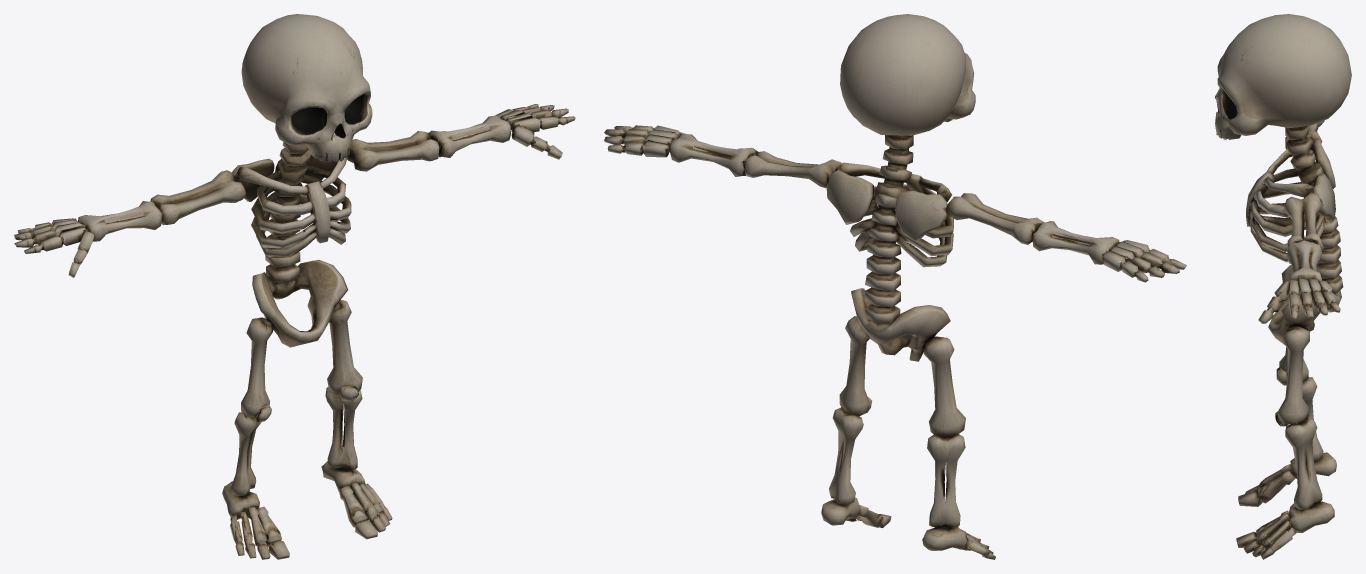
Rendered from skeletonglb.glb.
3 renders of one model, left to right at view 1: azimuth 30°, elevation 25°; view 2: azimuth 150°, elevation 25°; view 3: azimuth 270°, elevation 25°, orthographic. The views are drawn at different scales.
Visible parts, largest first — view 1: tripo_node_7dbbd2e0-ccee-49bd-b1d3-db80e5dba29f; view 2: tripo_node_7dbbd2e0-ccee-49bd-b1d3-db80e5dba29f; view 3: tripo_node_7dbbd2e0-ccee-49bd-b1d3-db80e5dba29f.
Part boxes in pixels (bbox=[...]): tripo_node_7dbbd2e0-ccee-49bd-b1d3-db80e5dba29f: bbox=[14, 14, 575, 559]; tripo_node_7dbbd2e0-ccee-49bd-b1d3-db80e5dba29f: bbox=[604, 14, 1186, 559]; tripo_node_7dbbd2e0-ccee-49bd-b1d3-db80e5dba29f: bbox=[1215, 14, 1351, 559].
Bounding box in the file's own units: 1.58 × 1.4 × 0.344.
Materials: 1 (1 with a texture image).
